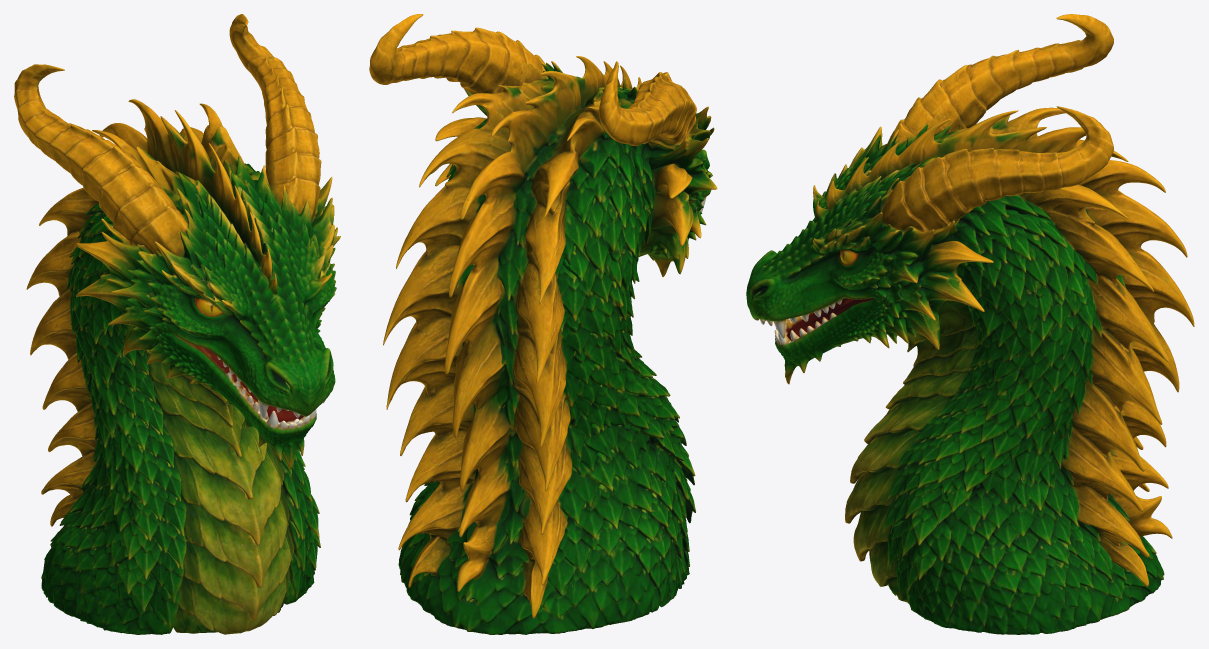
File: preview.glb
The picture shows the model from 3 angles, left to right: view 1: azimuth 30°, elevation 25°; view 2: azimuth 150°, elevation 25°; view 3: azimuth 270°, elevation 25°; orthographic projection. The views are drawn at different scales.
Parts seen in each view (by area): view 1: dragon-head; view 2: dragon-head; view 3: dragon-head.
Part boxes in pixels (box(x1,y1,x2,y2)): dragon-head: box(14, 14, 340, 634); dragon-head: box(369, 14, 717, 634); dragon-head: box(746, 14, 1194, 634).
Size of the model in its own units: 0.4663 by 0.8997 by 0.7058.
Materials: 1 (1 with a texture image).
